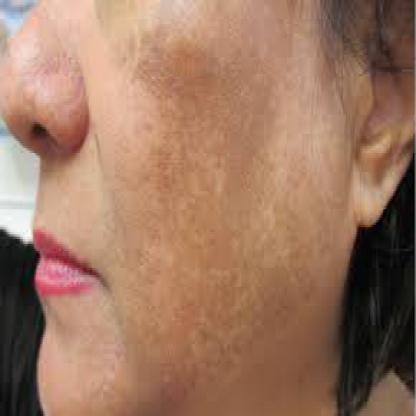darkspot: (135, 14, 254, 206), (139, 325, 243, 409), (251, 239, 324, 323), (29, 38, 86, 98)
